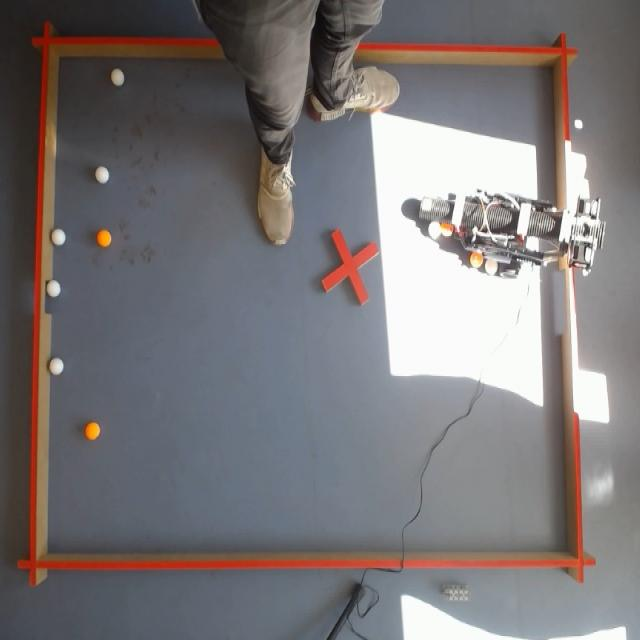orange: (81, 419, 102, 445), (94, 228, 113, 251), (471, 253, 484, 267), (441, 224, 453, 237)
robot: (418, 192, 606, 278)
robot-front: (420, 198, 434, 214)
white: (92, 164, 111, 188), (108, 66, 126, 90), (48, 355, 66, 378), (49, 227, 68, 248), (45, 278, 62, 299), (485, 258, 498, 276)
